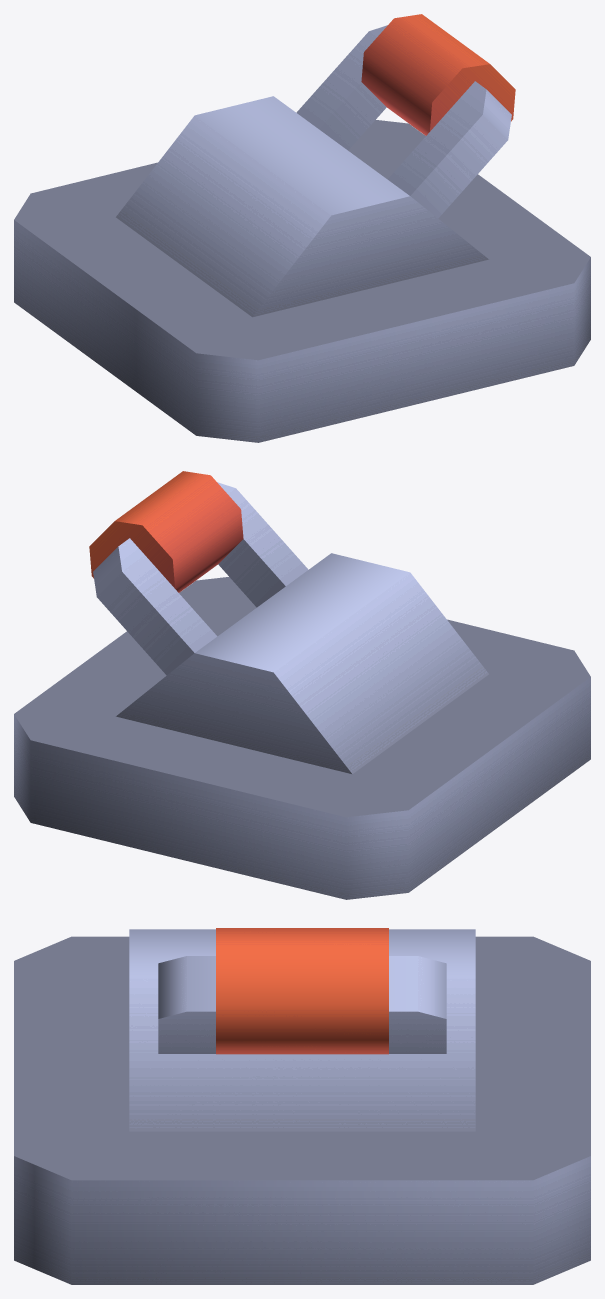
File: lever-double.glb
3 views of the same model, one above another, from view 1: azimuth 30°, elevation 25°; view 2: azimuth 150°, elevation 25°; view 3: azimuth 270°, elevation 25° (orthographic). The views are drawn at different scales.
Visible parts, largest first — view 1: lever-double-col, handle-col.001; view 2: lever-double-col, handle-col.001; view 3: lever-double-col, handle-col.001.
Boxes of the visible parts, bbox=[...] form: lever-double-col: bbox=[14, 96, 590, 442]; handle-col.001: bbox=[296, 14, 515, 218]; lever-double-col: bbox=[14, 553, 590, 899]; handle-col.001: bbox=[89, 471, 308, 675]; lever-double-col: bbox=[14, 929, 590, 1284]; handle-col.001: bbox=[158, 928, 446, 1054].
Size of the model in its own units: 0.5 by 0.299 by 0.5.
1 material, 1 textured.
